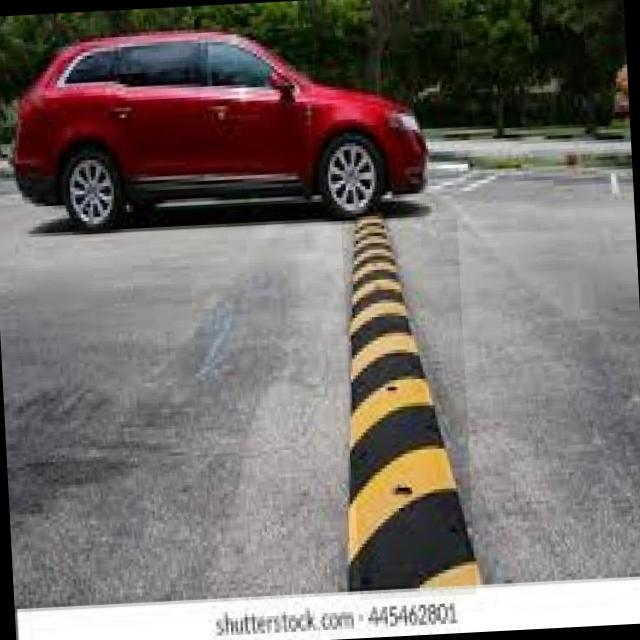bump: (342, 219, 476, 600)
